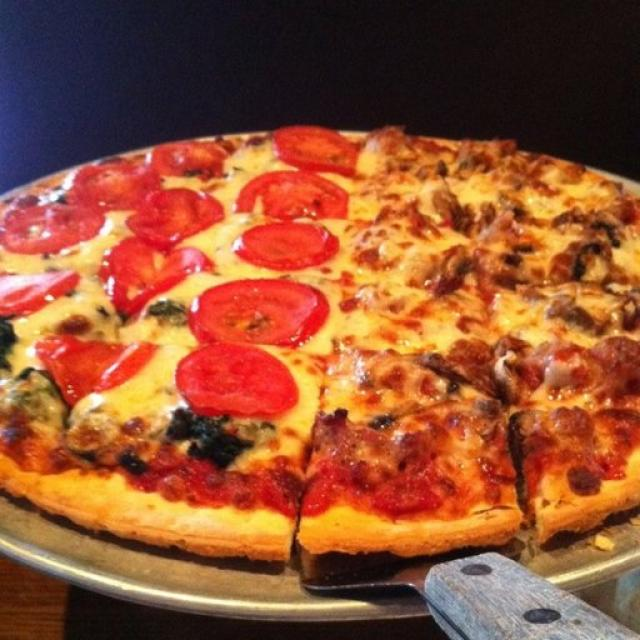Pizza: (0, 126, 640, 579)
Tomato: (192, 279, 324, 344), (183, 346, 298, 412), (42, 335, 156, 398), (106, 250, 212, 314), (4, 195, 109, 247), (139, 187, 225, 244), (240, 172, 350, 214), (235, 224, 341, 264), (75, 163, 165, 207), (0, 270, 80, 314), (279, 129, 358, 171), (151, 143, 238, 177)
